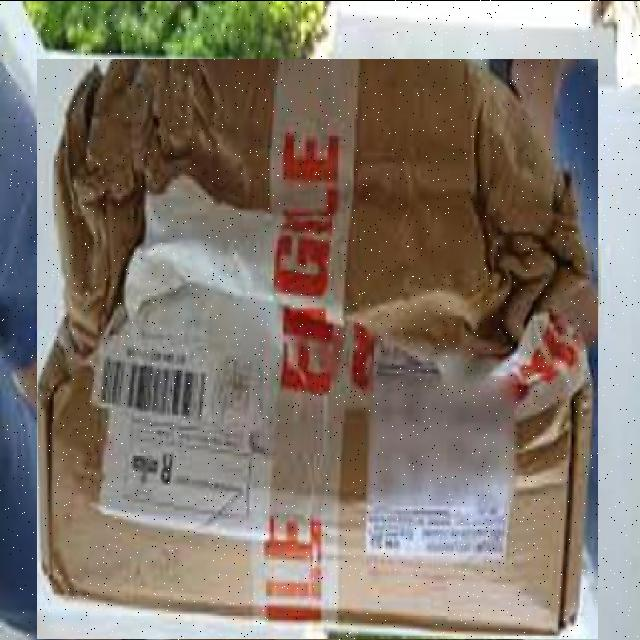defect: (37, 59, 598, 638)
